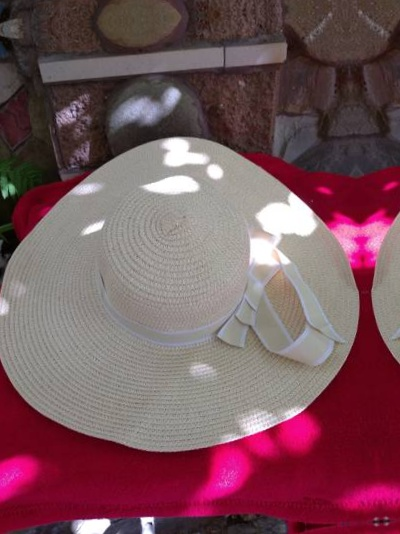Hat: (0, 109, 363, 459), (365, 81, 400, 432)
